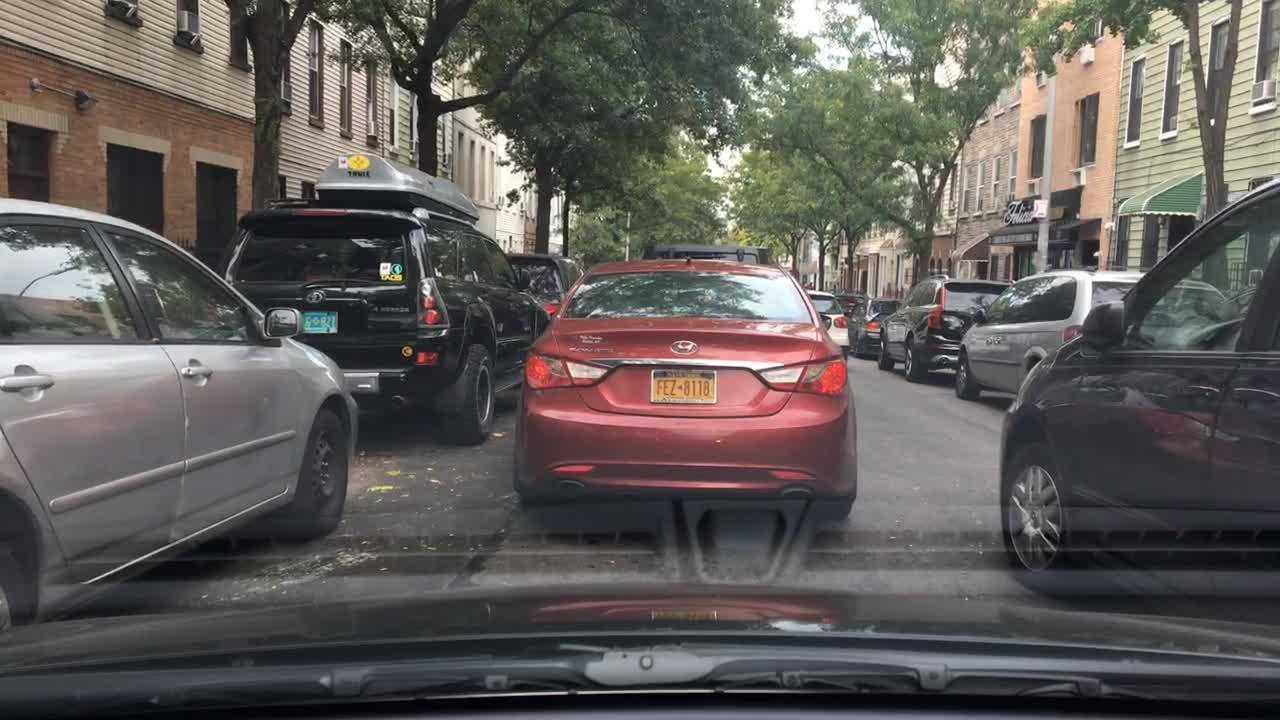Hyundai: (667, 335, 705, 360)
Toyota: (301, 287, 329, 306)
